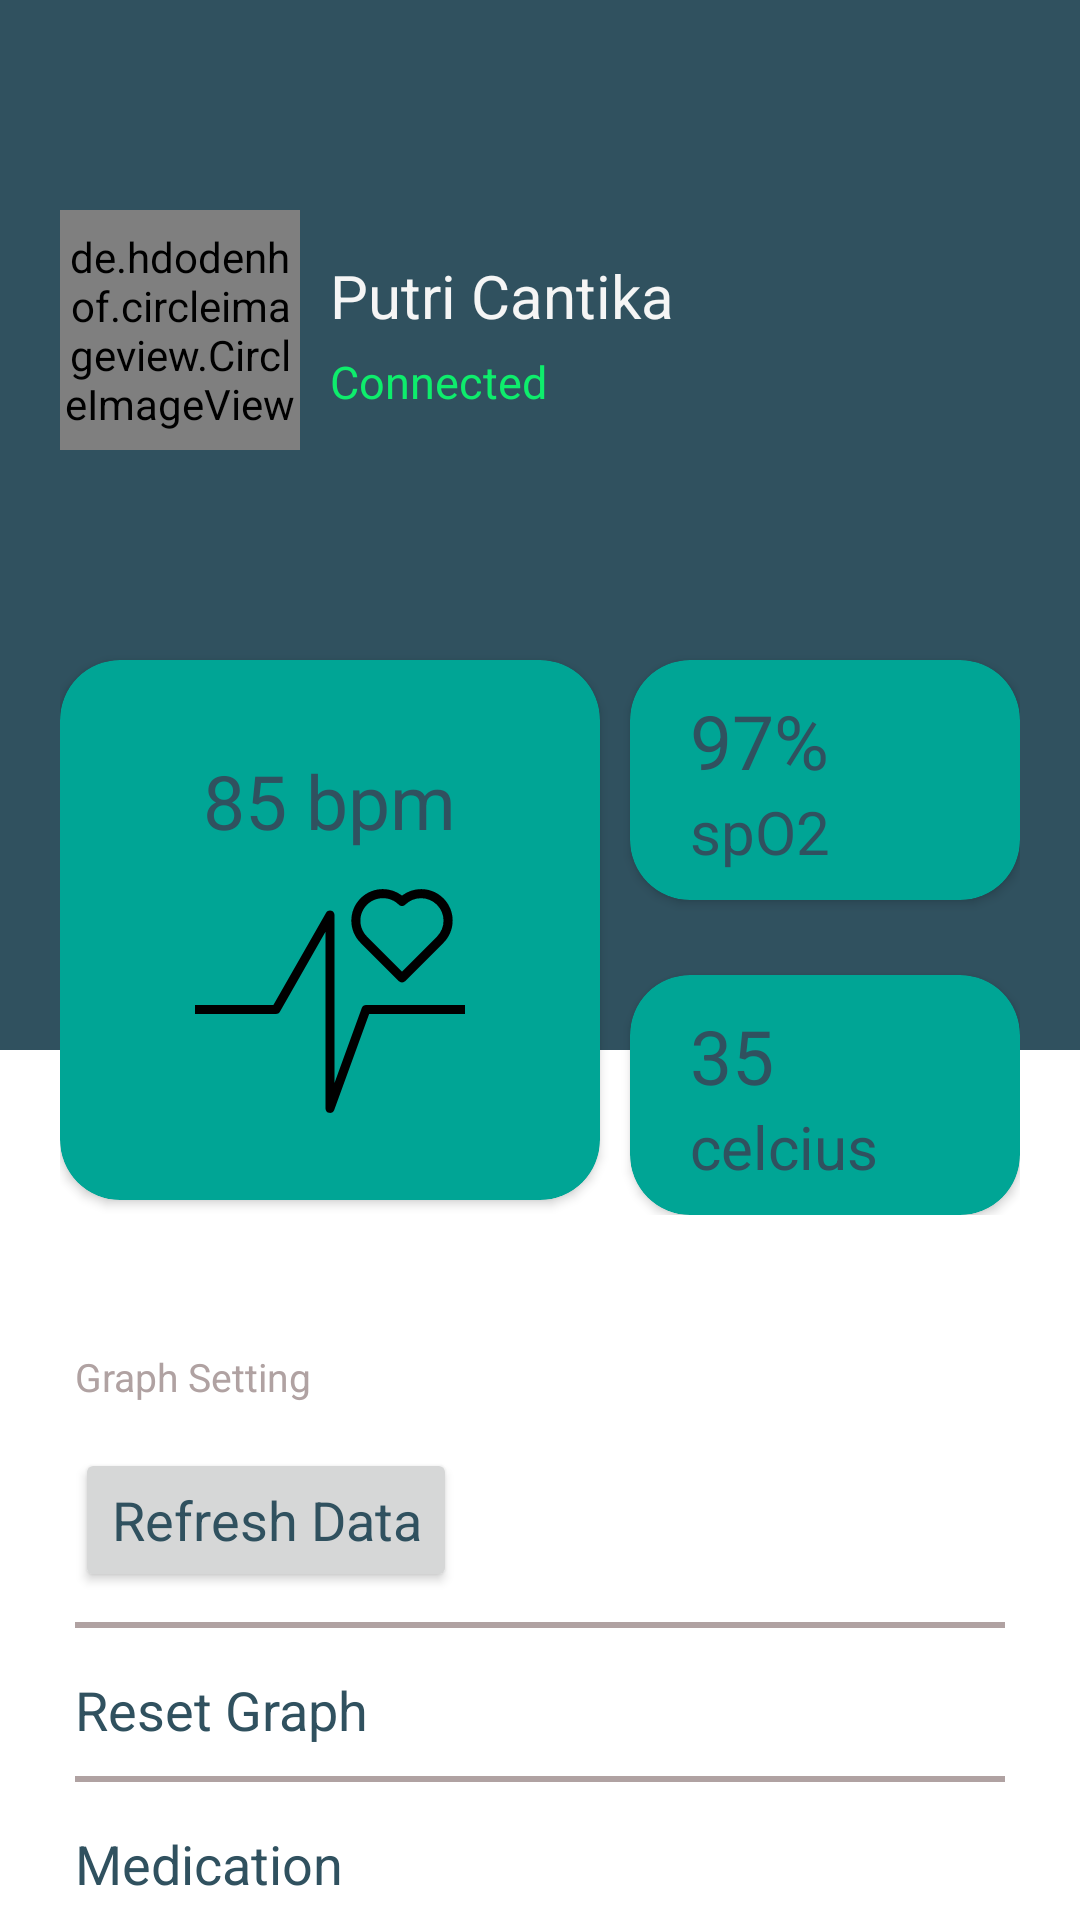

Named icons in this screenshot (1080px x 1920px) and their bounding boxes, (x1, y1, x2, y2):
pulse: (195, 889, 465, 1113)
